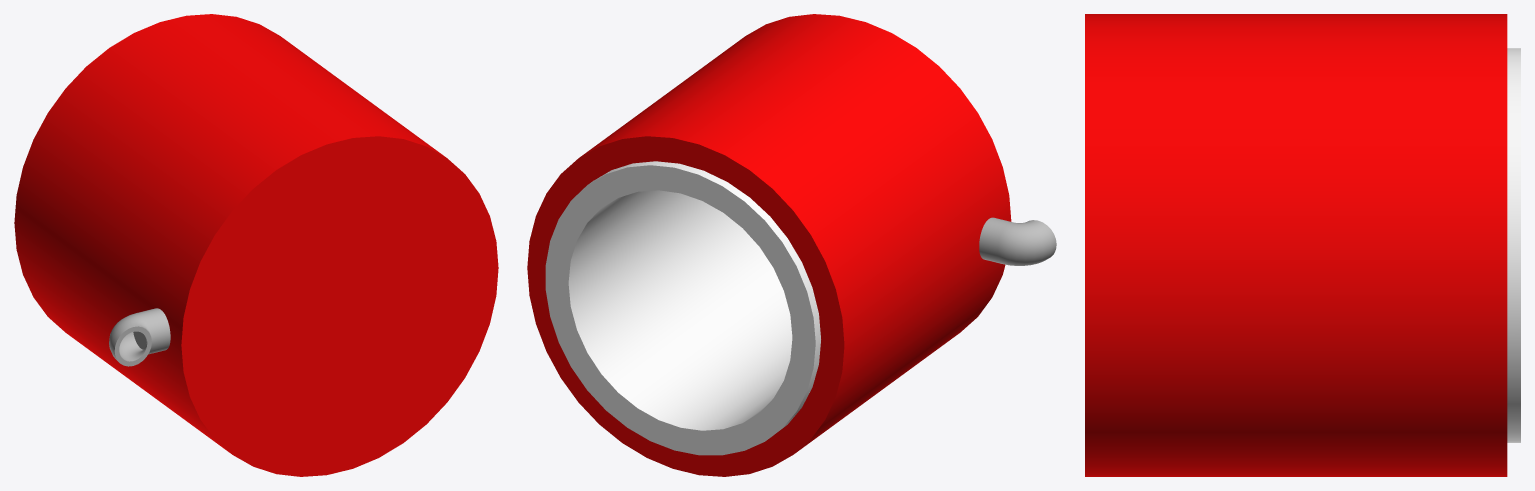
The model's file is bucket.glb.
3 views of the same model, side by side, from view 1: azimuth 30°, elevation 25°; view 2: azimuth 150°, elevation 25°; view 3: azimuth 270°, elevation 25° (orthographic). The views are drawn at different scales.
Parts seen in each view (by area): view 1: bucket.SLDPRT; view 2: bucket.SLDPRT; view 3: bucket.SLDPRT.
Boxes of the visible parts, x1,y1,x2,y2 form: bucket.SLDPRT: (14,14,498,476); bucket.SLDPRT: (527,14,1056,476); bucket.SLDPRT: (1085,14,1520,476).
Bounding box in the file's own units: 0.4 × 0.3388 × 0.32.
